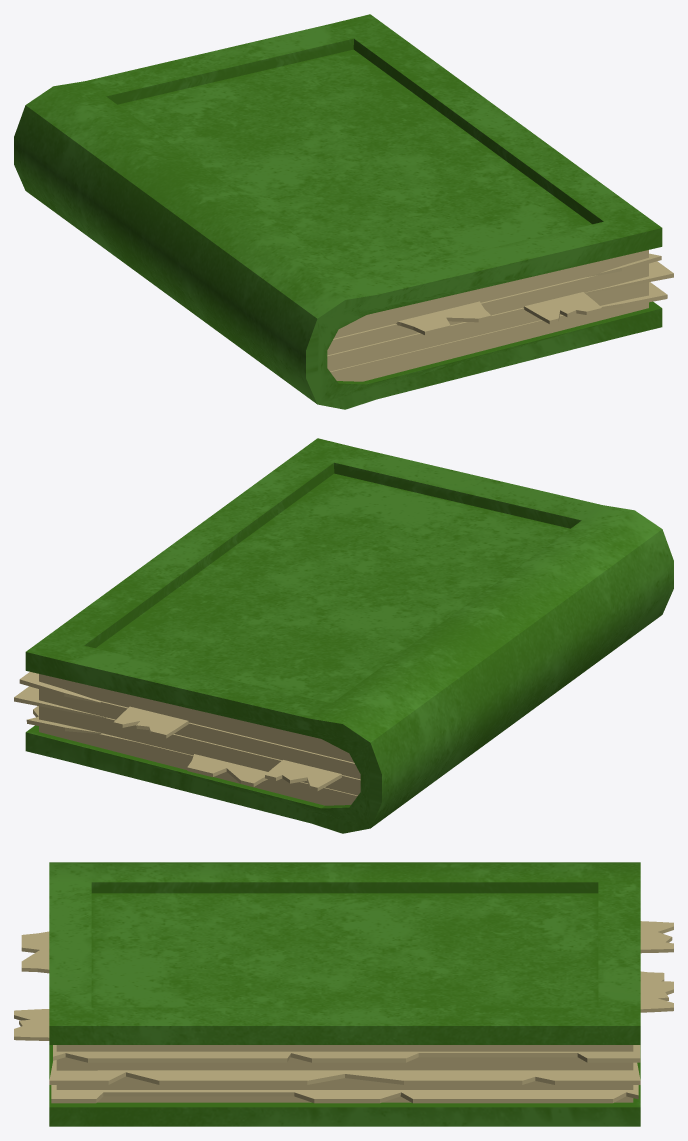
File: book_green_1.fbx
3 renders of one model, top to bottom at view 1: azimuth 30°, elevation 25°; view 2: azimuth 150°, elevation 25°; view 3: azimuth 270°, elevation 25°, orthographic.
Parts seen in each view (by area): view 1: Plane.018; view 2: Plane.018; view 3: Plane.018.
Boxes of the visible parts, bbox=[...] form: Plane.018: bbox=[14, 14, 673, 409]; Plane.018: bbox=[14, 438, 673, 833]; Plane.018: bbox=[14, 862, 673, 1126].
Bounding box in the file's own units: 223 × 63.43 × 341.
